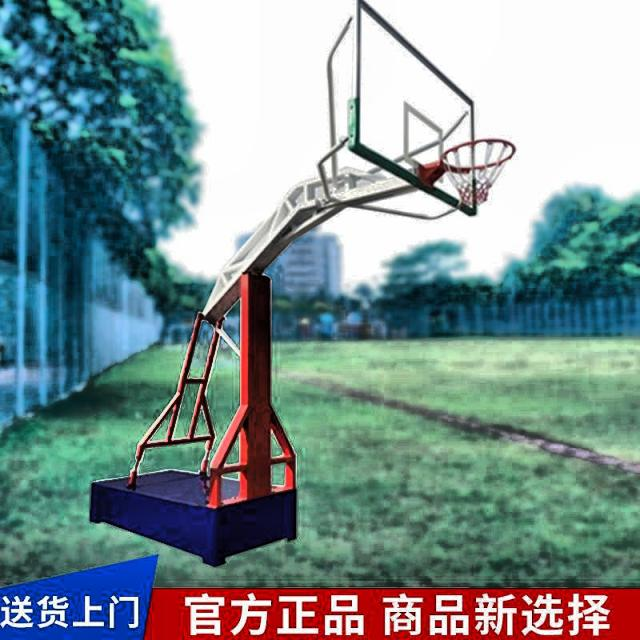rim: (442, 136, 517, 206)
